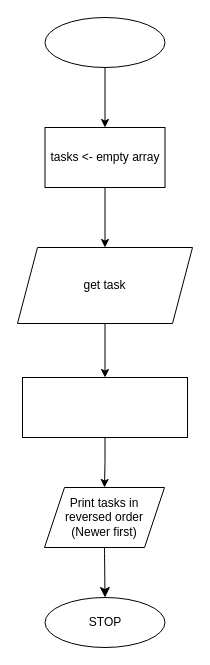
Image size: 210x665. Some labels were removed from this diagram. Here are the shapes that lost their labels. From the top down, the box of each, then its label:
(44, 16, 165, 68): START
(22, 376, 188, 438): push user task to tasks array
